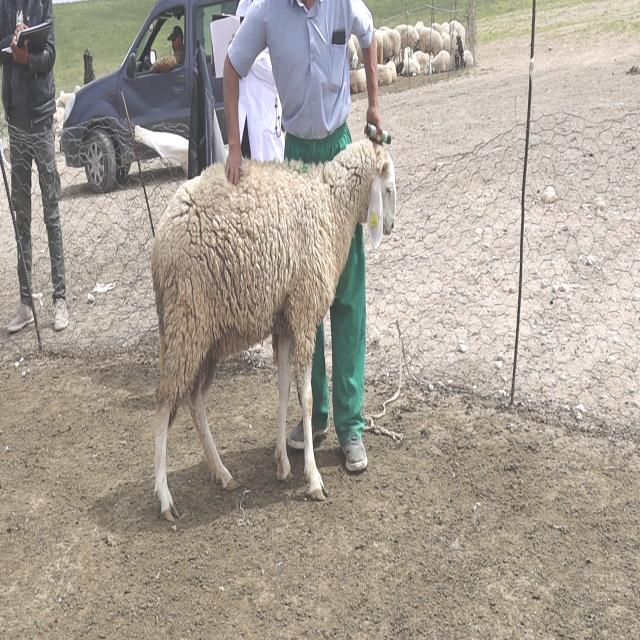Score_2: (152, 139, 396, 520)
